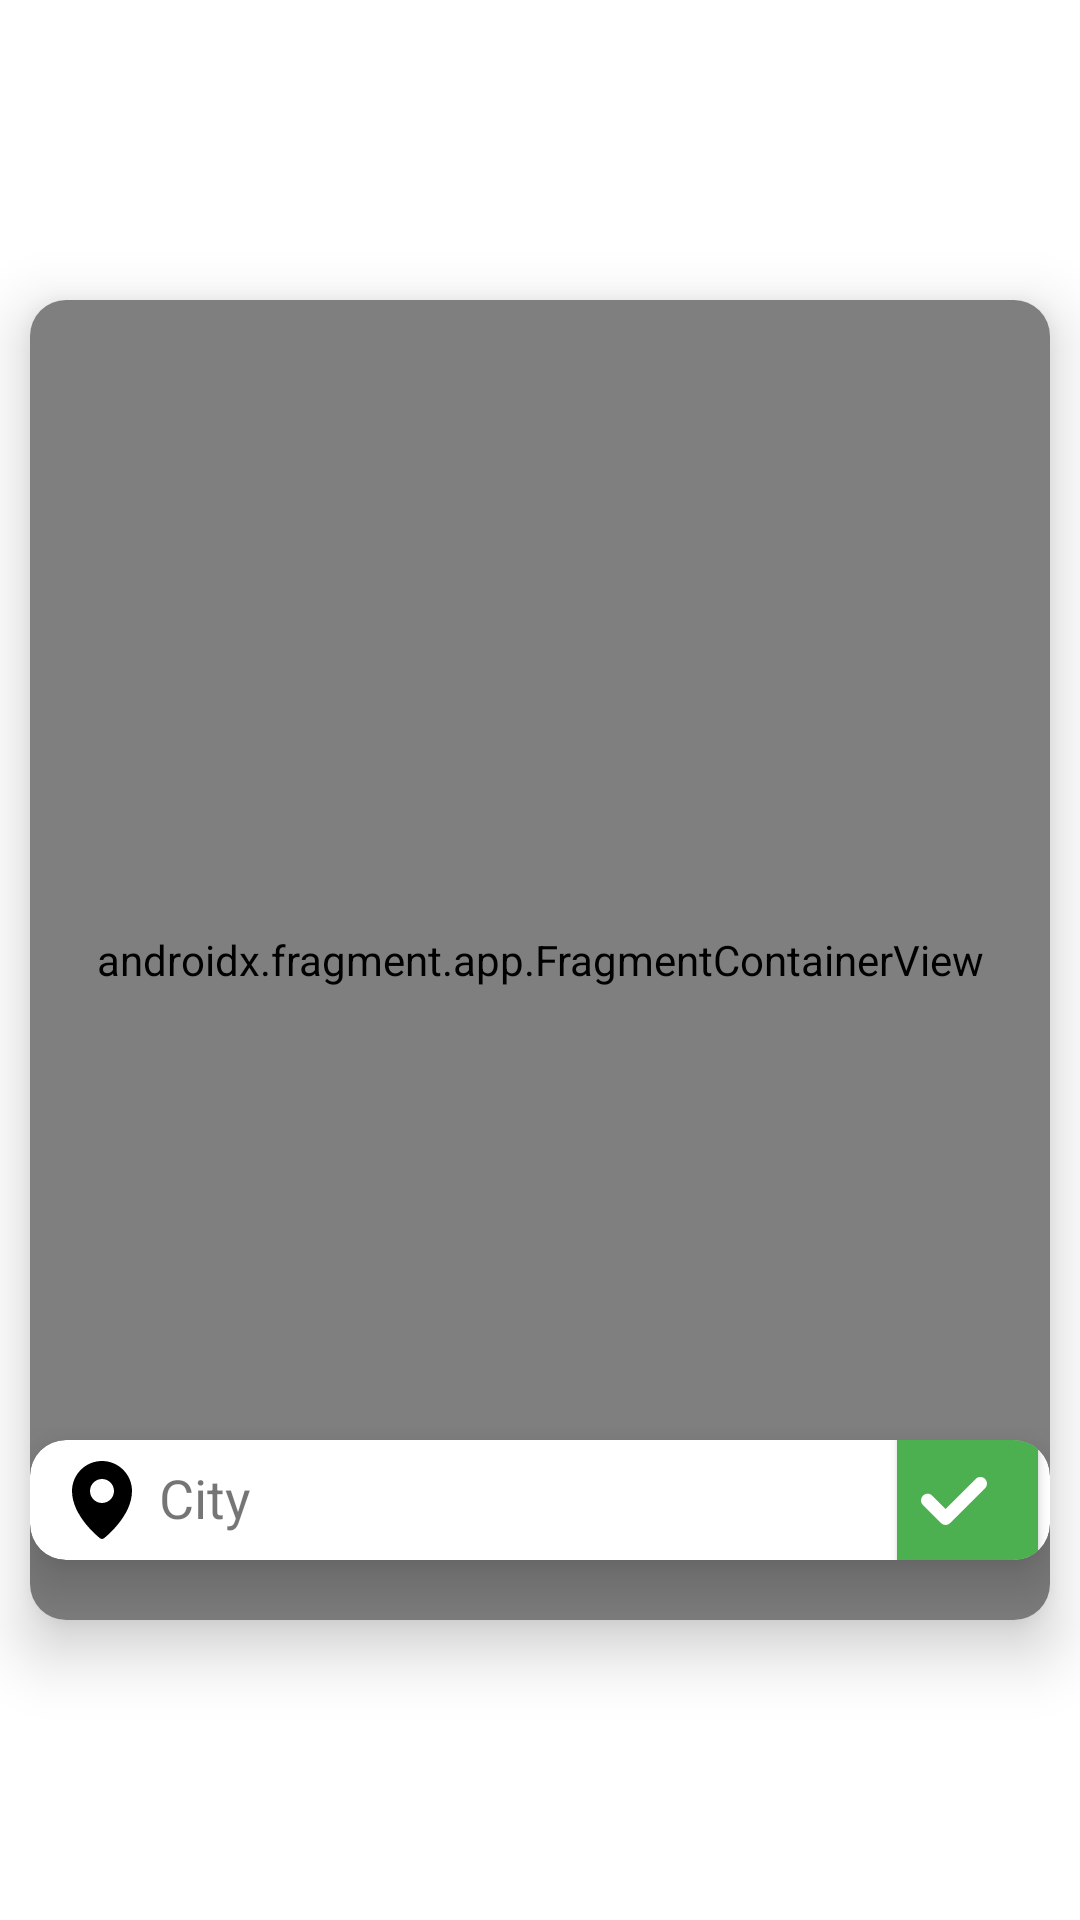

Icon click points for this 1080*1920 phone screenshot, format (x=x, y=y):
location first: (x=102, y=1500)
